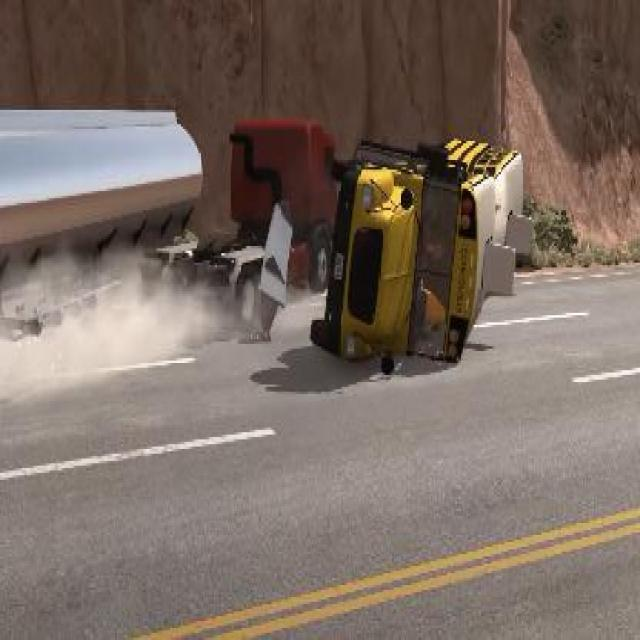accident: (0, 96, 545, 392)
